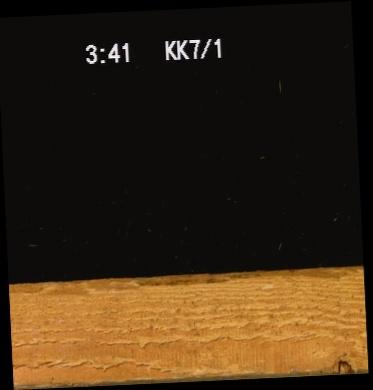edge_knot: (333, 357, 356, 374)
wave: (8, 269, 362, 287)
